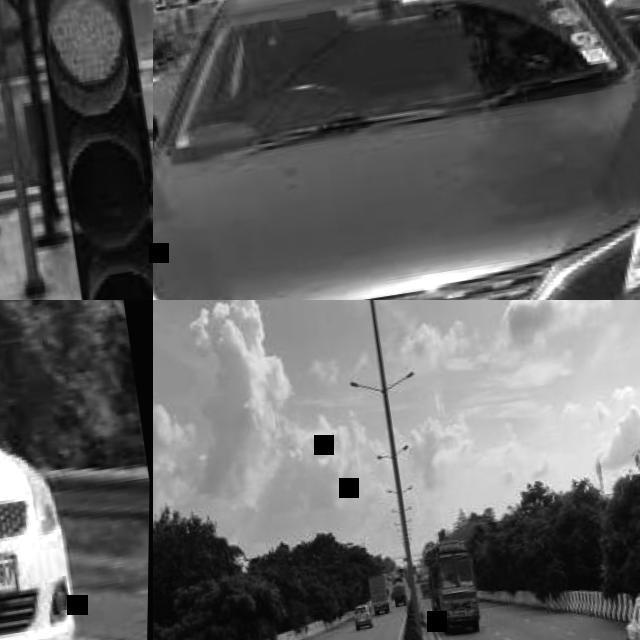car: (418, 471, 639, 639), (0, 266, 74, 639)
